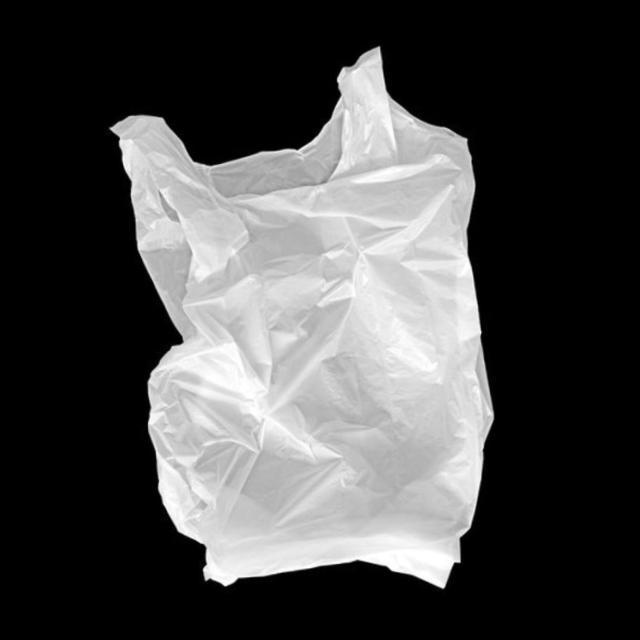KantongPlastik: (108, 44, 495, 590)
